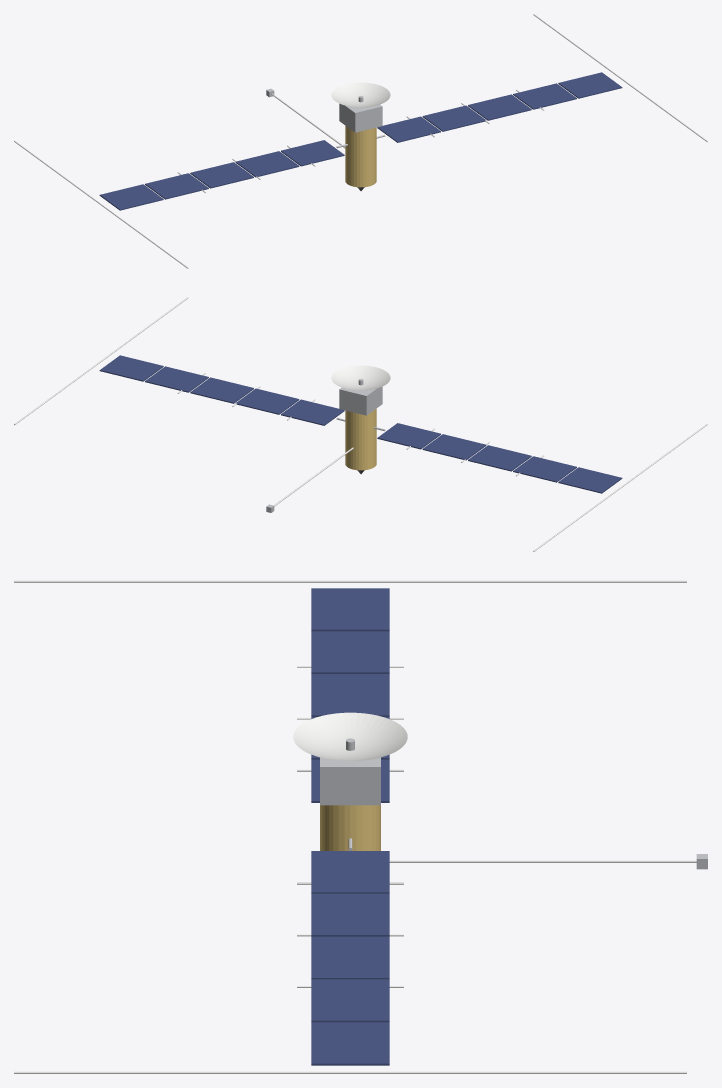
The model's file is europa_clipper.glb.
3 renders of one model, top to bottom at view 1: azimuth 30°, elevation 25°; view 2: azimuth 150°, elevation 25°; view 3: azimuth 270°, elevation 25°, orthographic. The views are drawn at different scales.
Visible parts, largest first — view 1: europa_clipper; view 2: europa_clipper; view 3: europa_clipper.
Boxes of the visible parts, x1,y1,x2,y2 form: europa_clipper: (14,14,707,268); europa_clipper: (14,297,707,551); europa_clipper: (14,580,707,1073).
Size of the model in its own units: 30.47 by 5.4 by 18.15.
